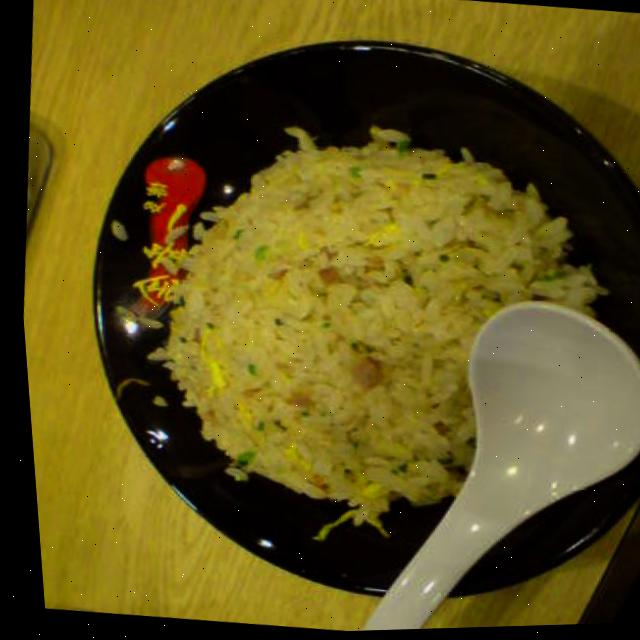米饭主食: (40, 26, 640, 639)
